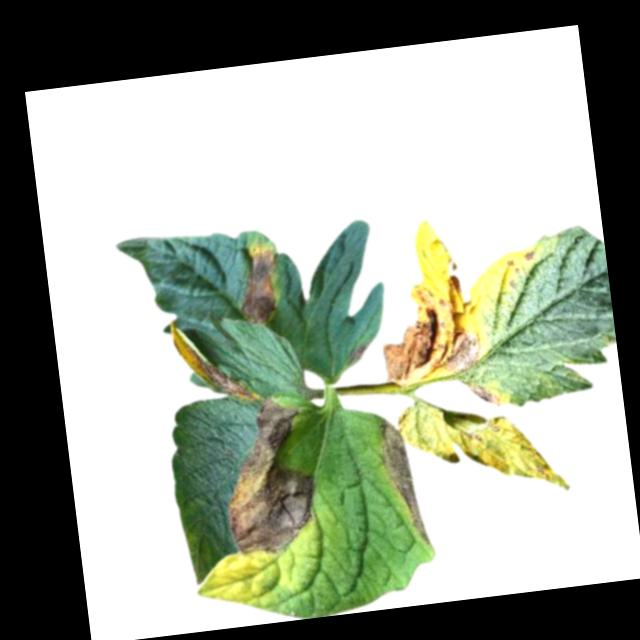Early_blight: (215, 391, 325, 559), (373, 267, 486, 385), (165, 312, 260, 406), (378, 417, 435, 547), (235, 238, 287, 324), (466, 377, 505, 412), (348, 340, 374, 364), (522, 245, 540, 266)
